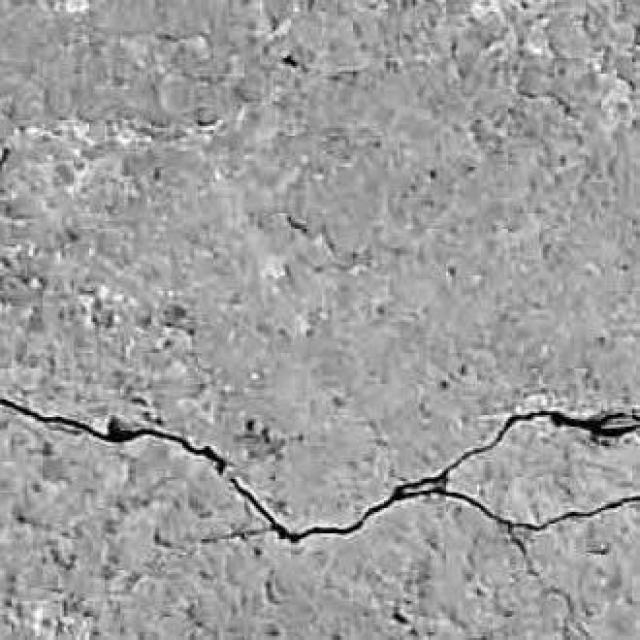crack: (0, 398, 639, 556)
